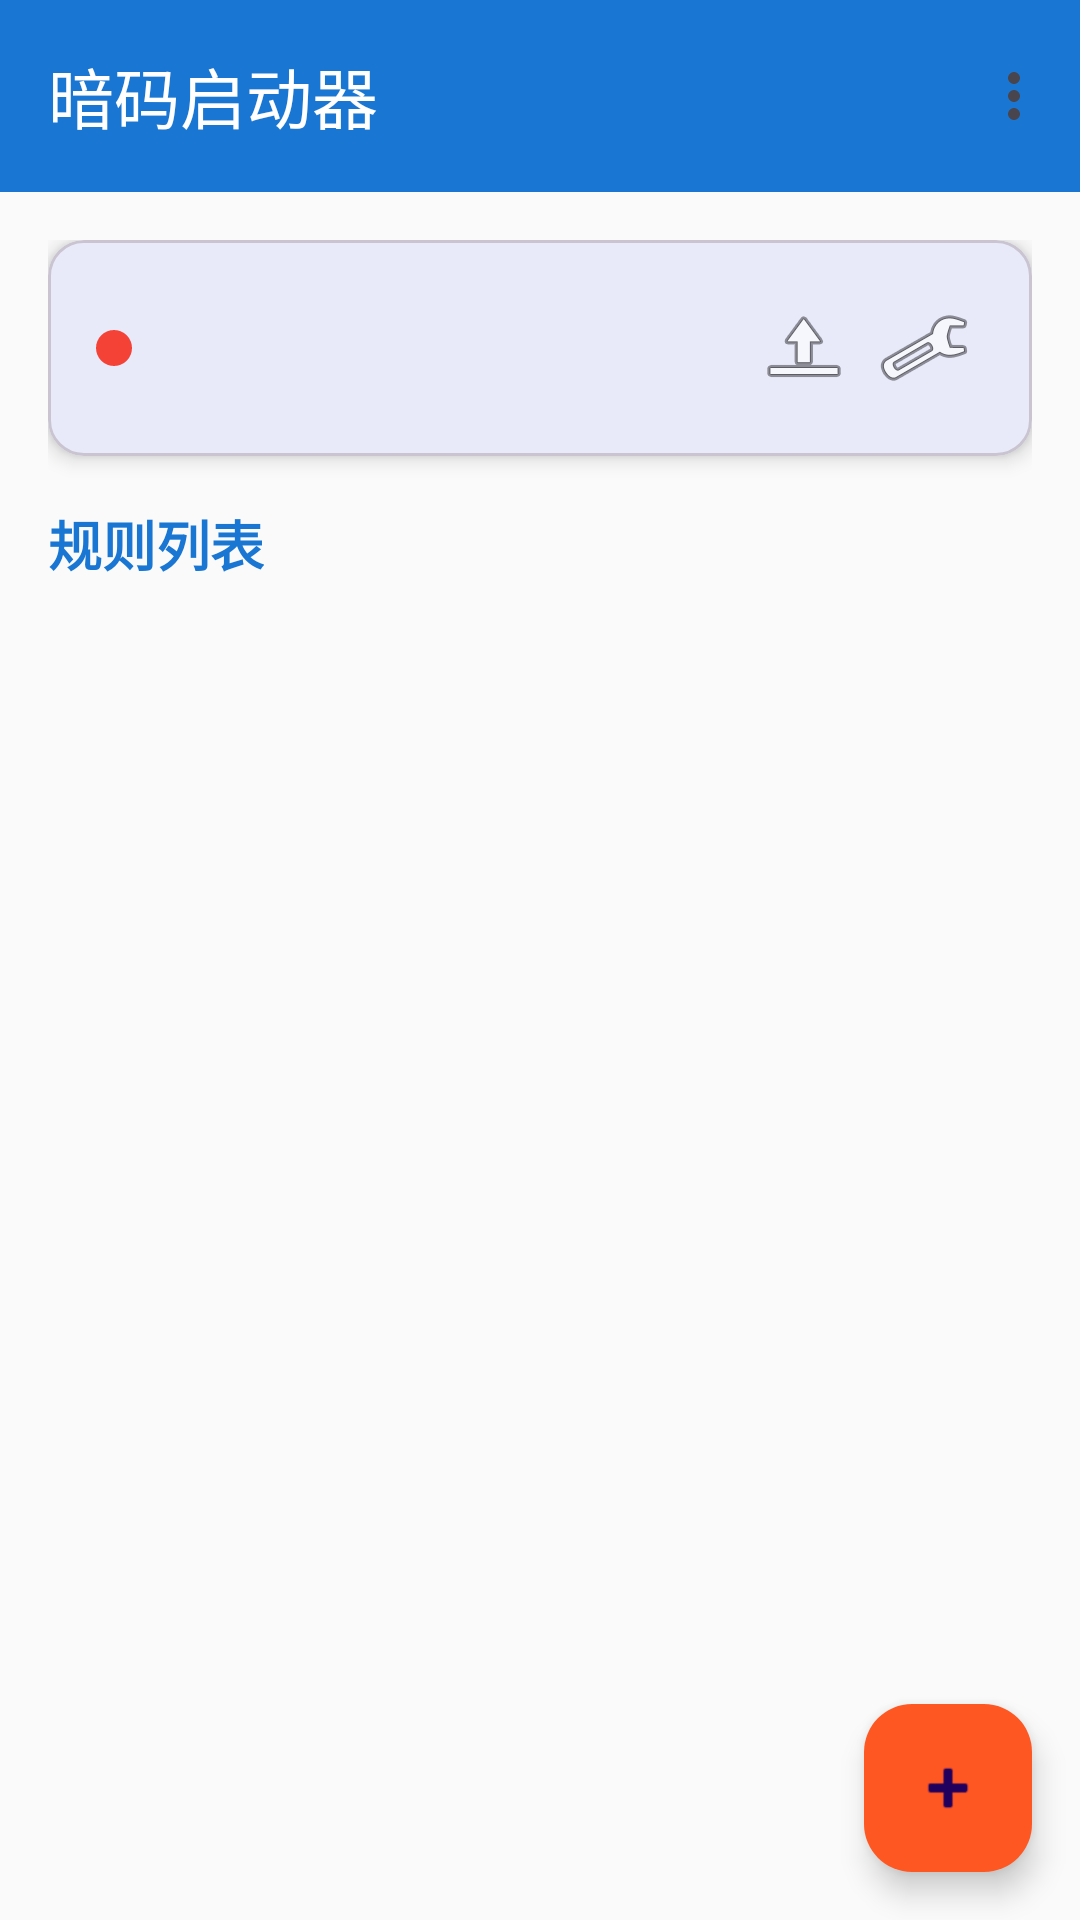

Point at icon controls on the screen. Image size 1080 x 1920, points as point (x, y).
导入导出: point (804, 346)
添加规则: point (948, 1788)
设置: point (924, 348)
